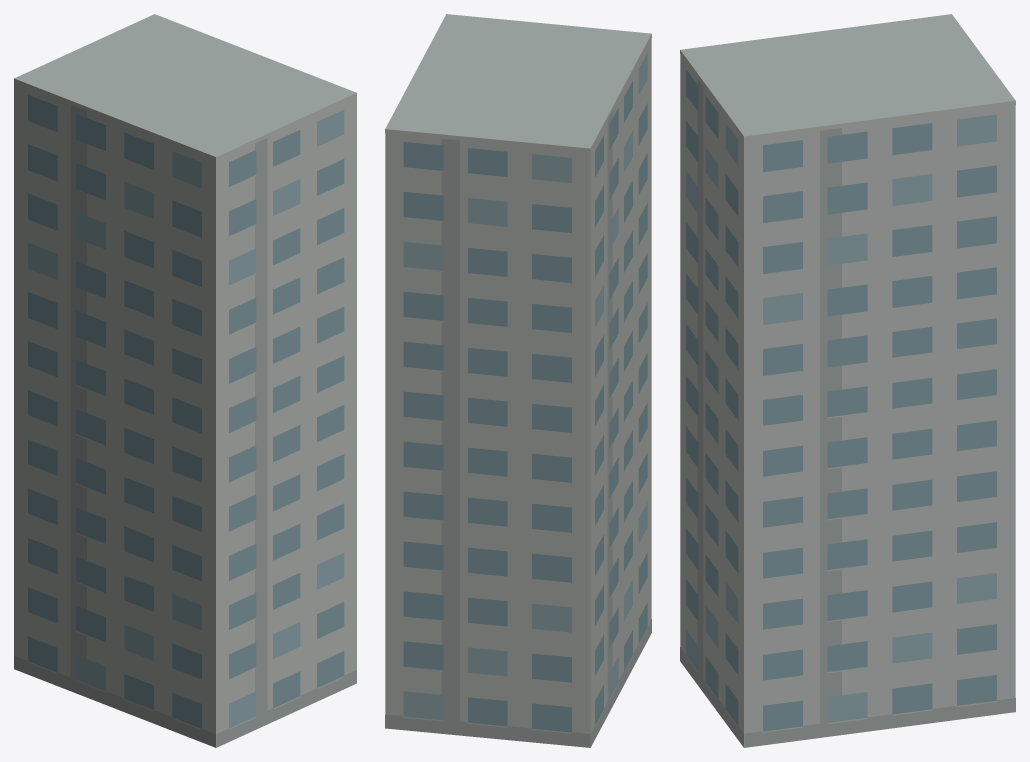
The model's file is residential-433597a4-ead1-4c51-81cc-569aaf5029ea.glb.
3 renders of one model, left to right at view 1: azimuth 30°, elevation 25°; view 2: azimuth 150°, elevation 25°; view 3: azimuth 270°, elevation 25°, orthographic. The views are drawn at different scales.
Visible parts, largest first — view 1: residential-433597a4-ead1-4c51-81cc-569aaf5029ea.tmp; view 2: residential-433597a4-ead1-4c51-81cc-569aaf5029ea.tmp; view 3: residential-433597a4-ead1-4c51-81cc-569aaf5029ea.tmp.
Part boxes in pixels (box(x1,y1,x2,y2)): residential-433597a4-ead1-4c51-81cc-569aaf5029ea.tmp: box(14, 14, 356, 747); residential-433597a4-ead1-4c51-81cc-569aaf5029ea.tmp: box(385, 14, 651, 747); residential-433597a4-ead1-4c51-81cc-569aaf5029ea.tmp: box(680, 14, 1015, 747).
Bounding box in the file's own units: 15.04 × 35 × 17.42.
